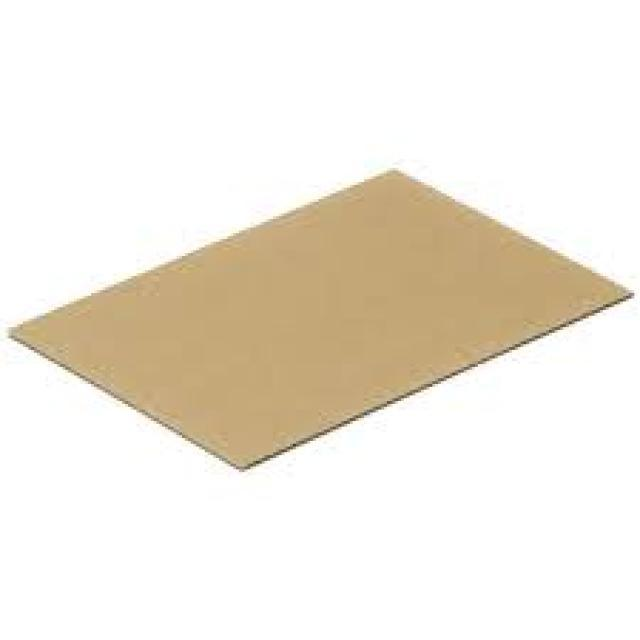Cardboard: (22, 173, 632, 471)
